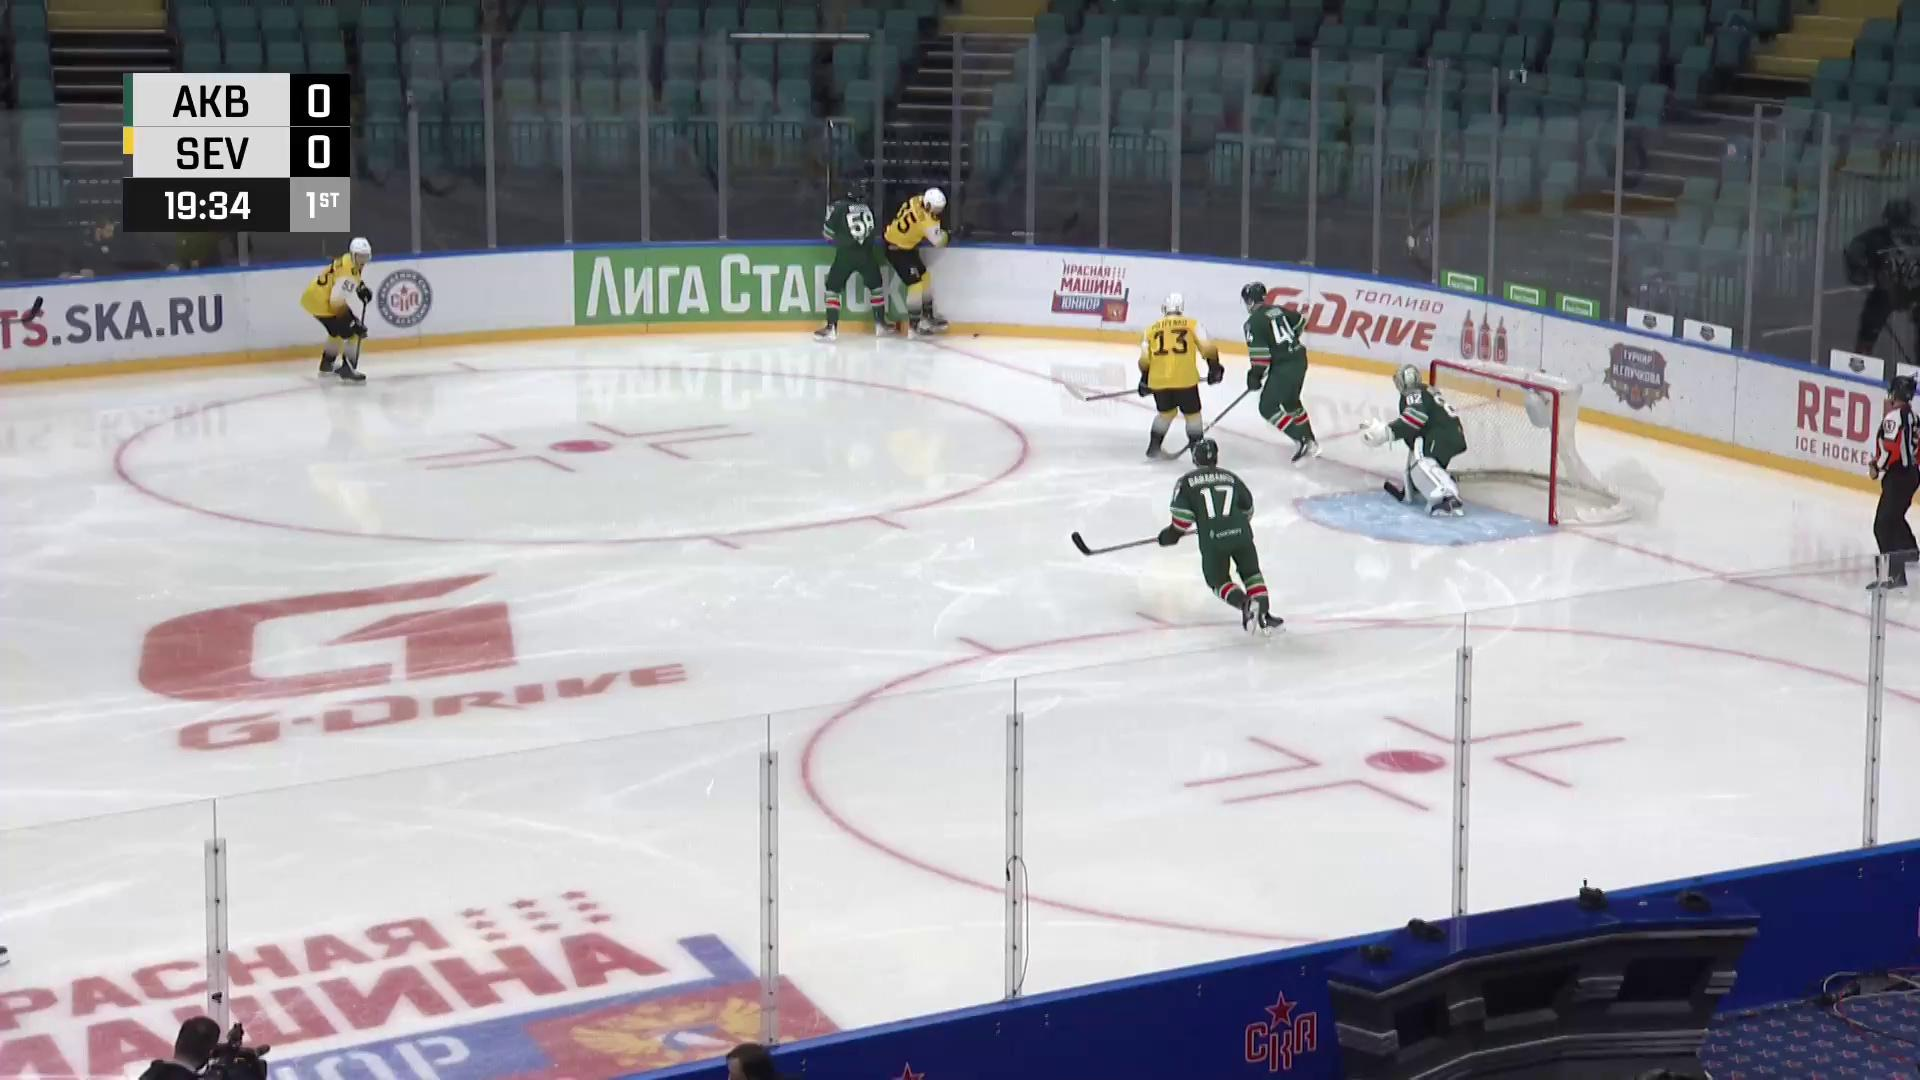ball: (972, 331, 981, 339)
